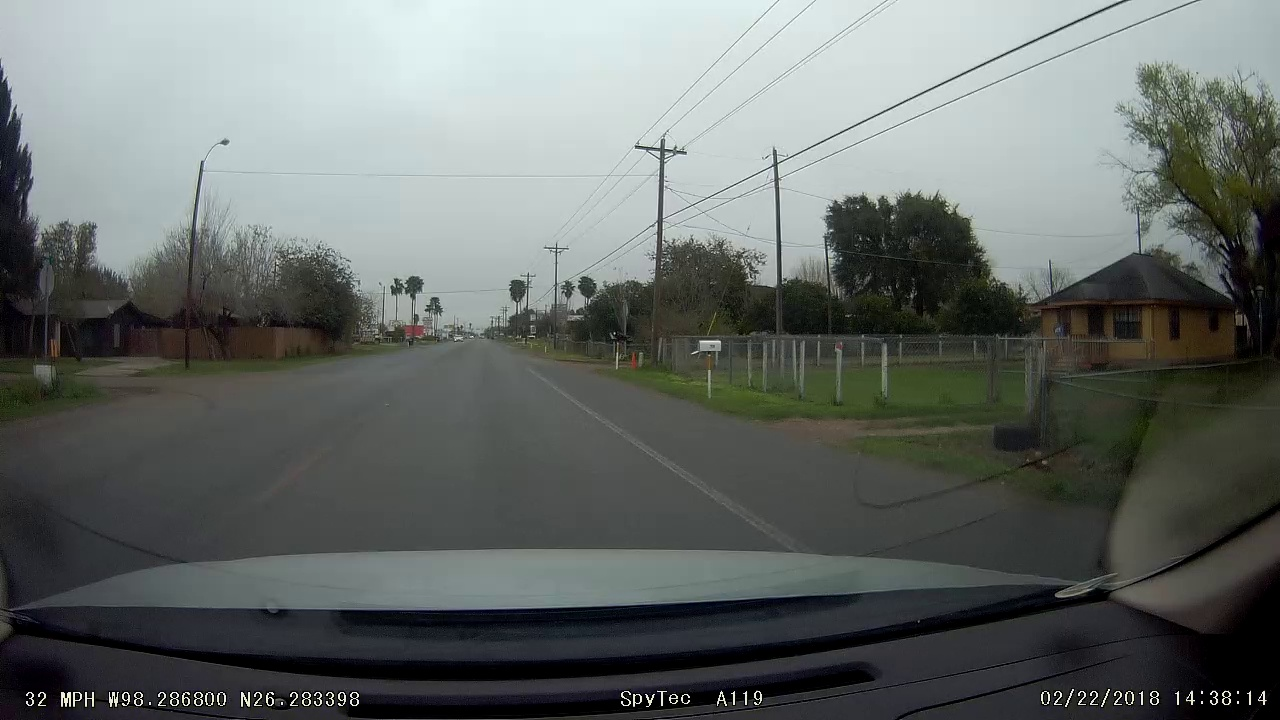blurredLine: (258, 433, 336, 511)
